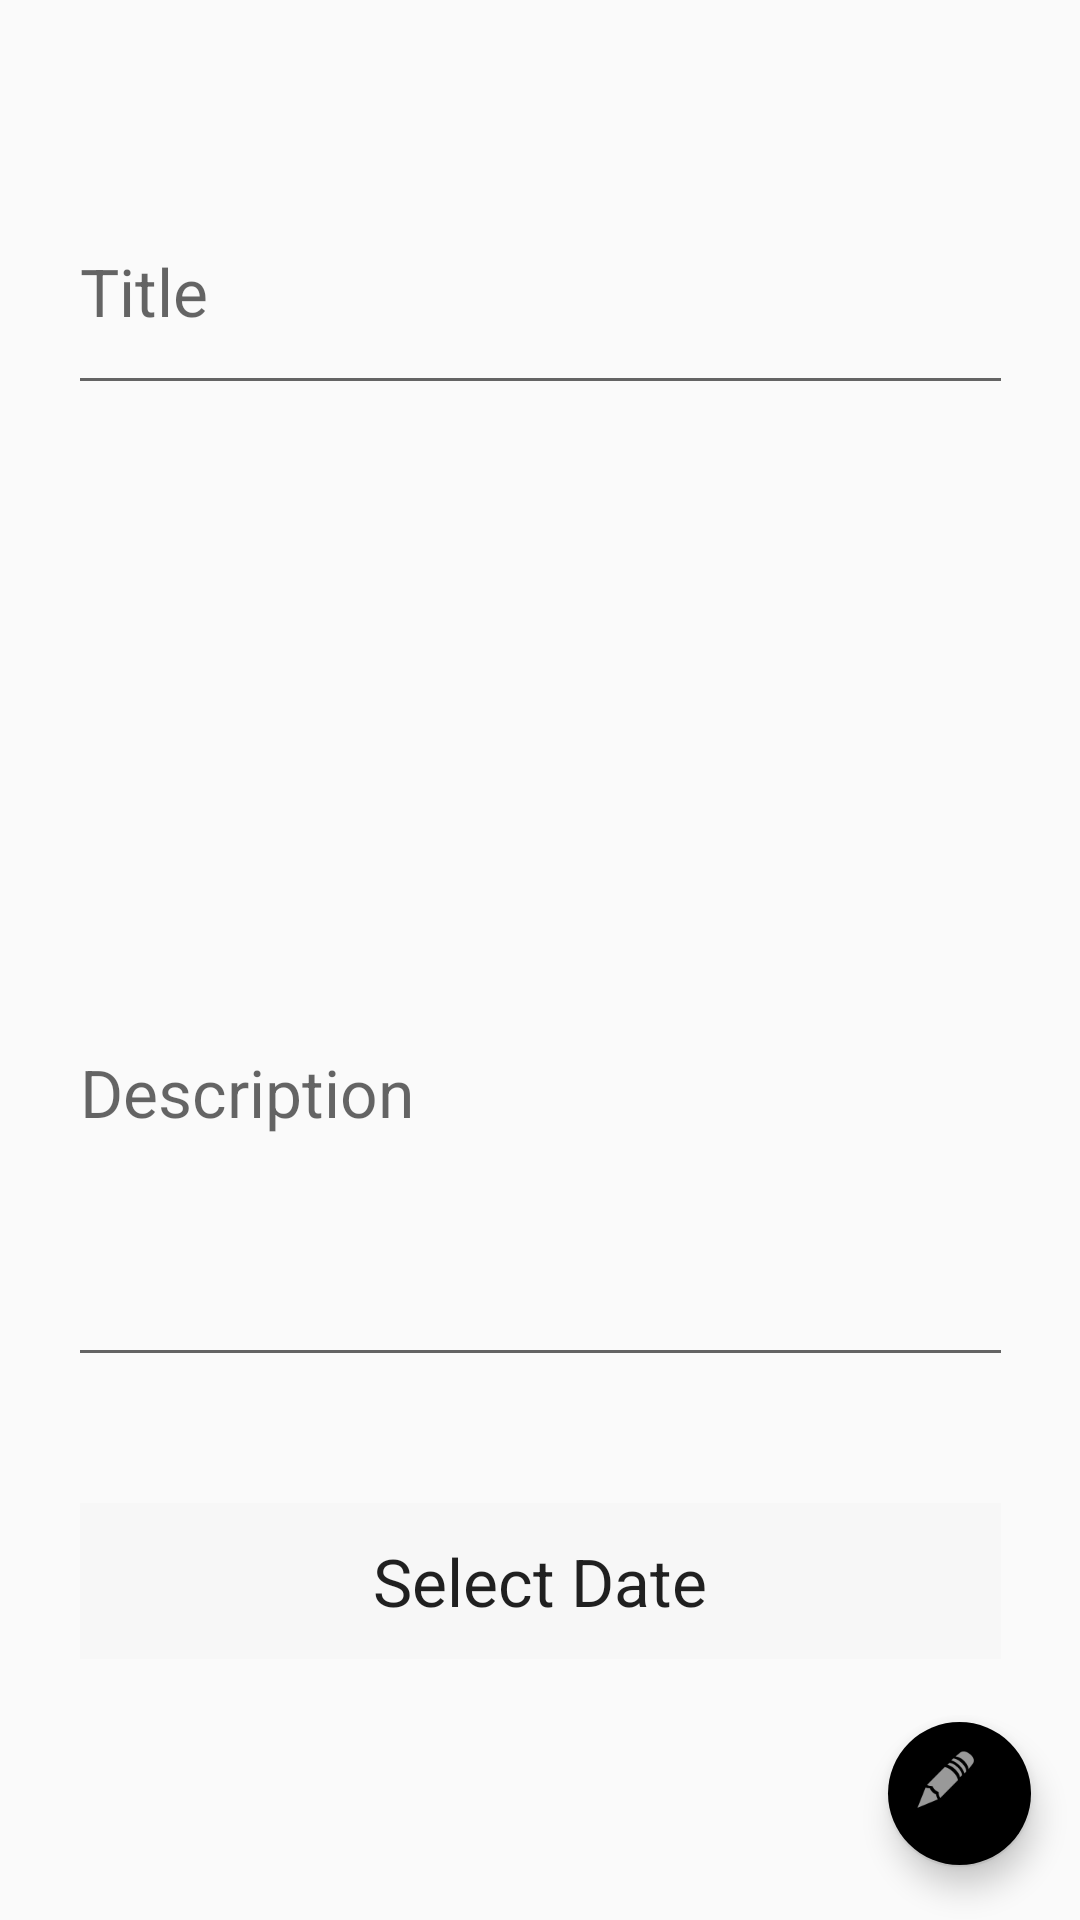

Named icons in this screenshot (1080 × 1920) and their bounding boxes, (x1, y1, x2, y2):
edit: (888, 1722, 1033, 1867)
